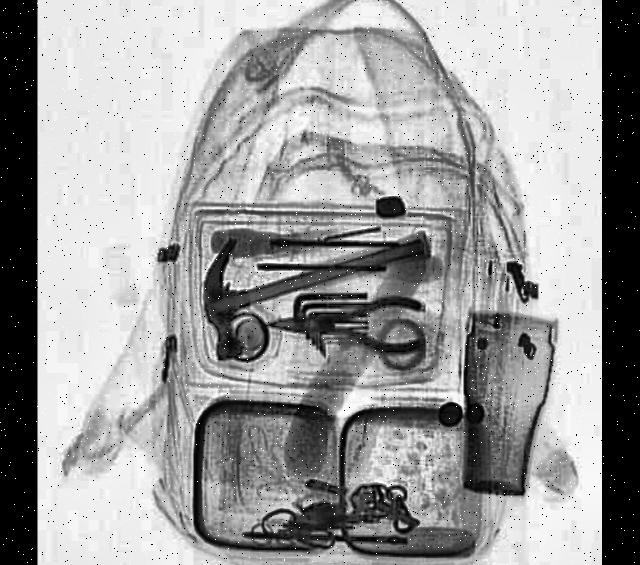Pliers: (272, 294, 423, 349)
